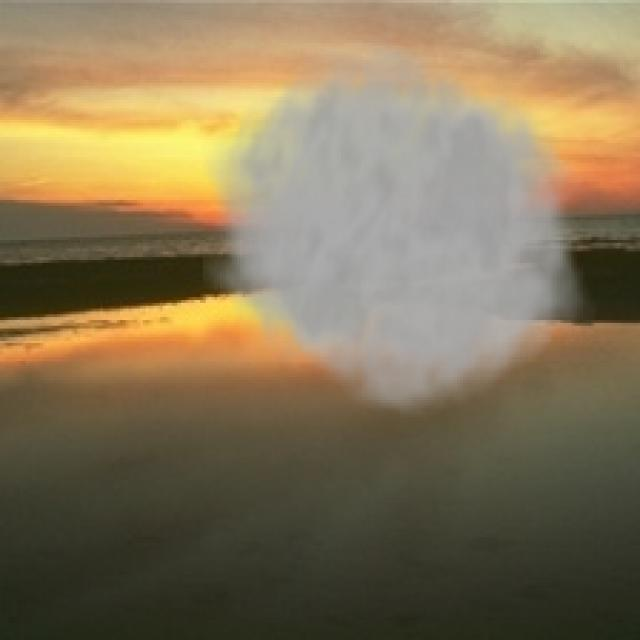smoke: (203, 26, 600, 426)
